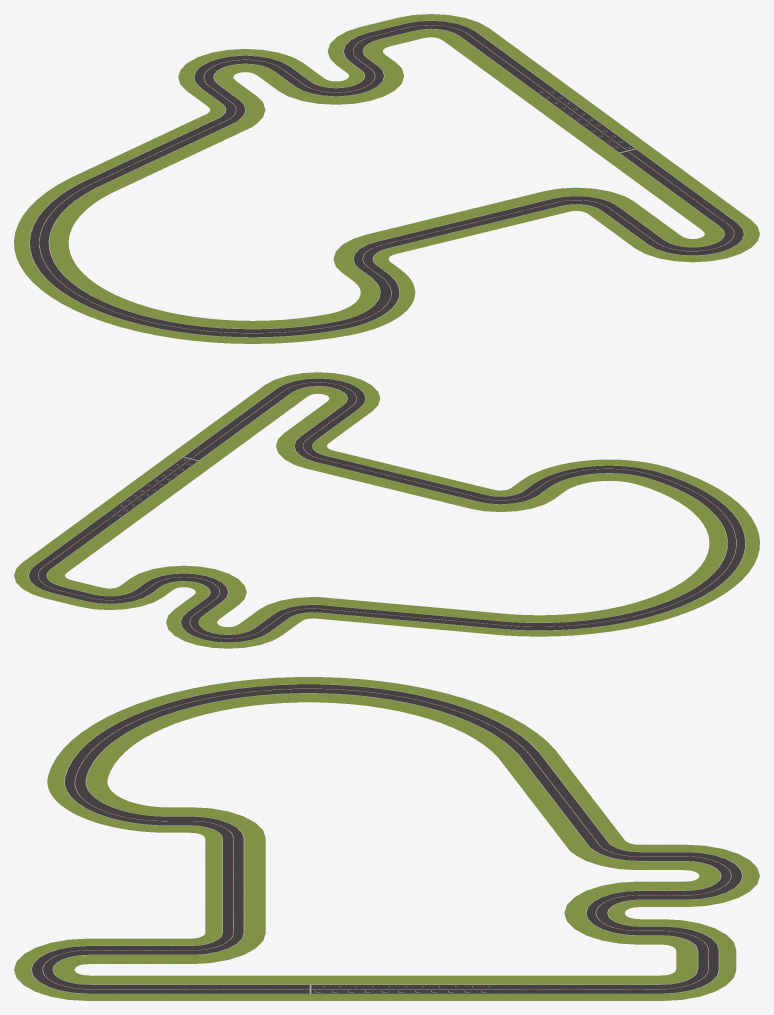
File: simple_line.obj
3 views of the same model, one above another, from view 1: azimuth 30°, elevation 25°; view 2: azimuth 150°, elevation 25°; view 3: azimuth 270°, elevation 25° (orthographic). The views are drawn at different scales.
Parts seen in each view (by area): view 1: SketchUp.025, SketchUp.026, SketchUp.001, group_0.033, SketchUp.002, SketchUp; view 2: SketchUp.025, SketchUp.026, SketchUp.001, SketchUp.002, group_0.033, SketchUp; view 3: SketchUp.025, SketchUp.026, SketchUp.001, SketchUp, group_0.033, SketchUp.002.
Part boxes in pixels (bbox=[...]): SketchUp.025: bbox=[30, 20, 743, 337]; SketchUp.026: bbox=[49, 29, 724, 328]; SketchUp.001: bbox=[14, 14, 759, 343]; group_0.033: bbox=[39, 25, 734, 333]; SketchUp.002: bbox=[29, 20, 744, 337]; SketchUp: bbox=[48, 28, 724, 329]; SketchUp.025: bbox=[29, 378, 745, 642]; SketchUp.026: bbox=[47, 386, 727, 634]; SketchUp.001: bbox=[14, 372, 759, 648]; SketchUp.002: bbox=[28, 378, 745, 642]; group_0.033: bbox=[38, 382, 736, 638]; SketchUp: bbox=[46, 386, 727, 634]; SketchUp.025: bbox=[31, 684, 742, 993]; SketchUp.026: bbox=[53, 693, 720, 984]; SketchUp.001: bbox=[14, 677, 759, 1000]; SketchUp: bbox=[52, 693, 721, 993]; group_0.033: bbox=[42, 688, 731, 989]; SketchUp.002: bbox=[31, 684, 742, 993].
Size of the model in its own units: 115 by 0.0021 by 112.
Materials: 5 (2 with a texture image).
